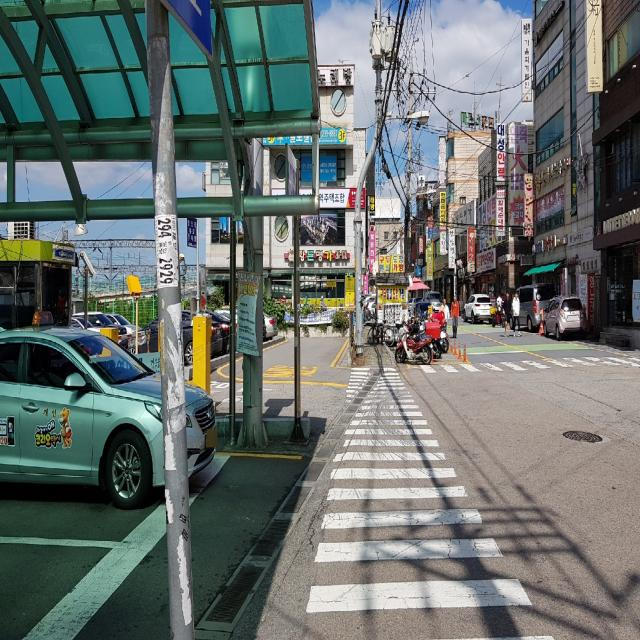횡단보도: (304, 362, 554, 640)
